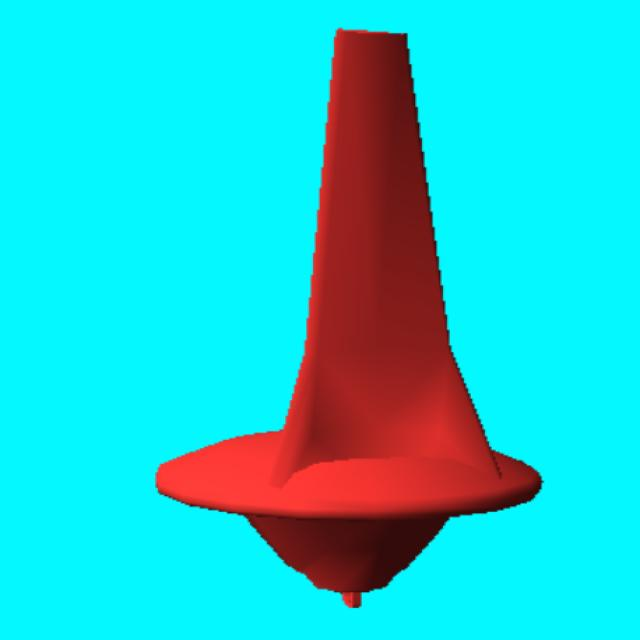RedBuoy: (156, 30, 541, 598)
